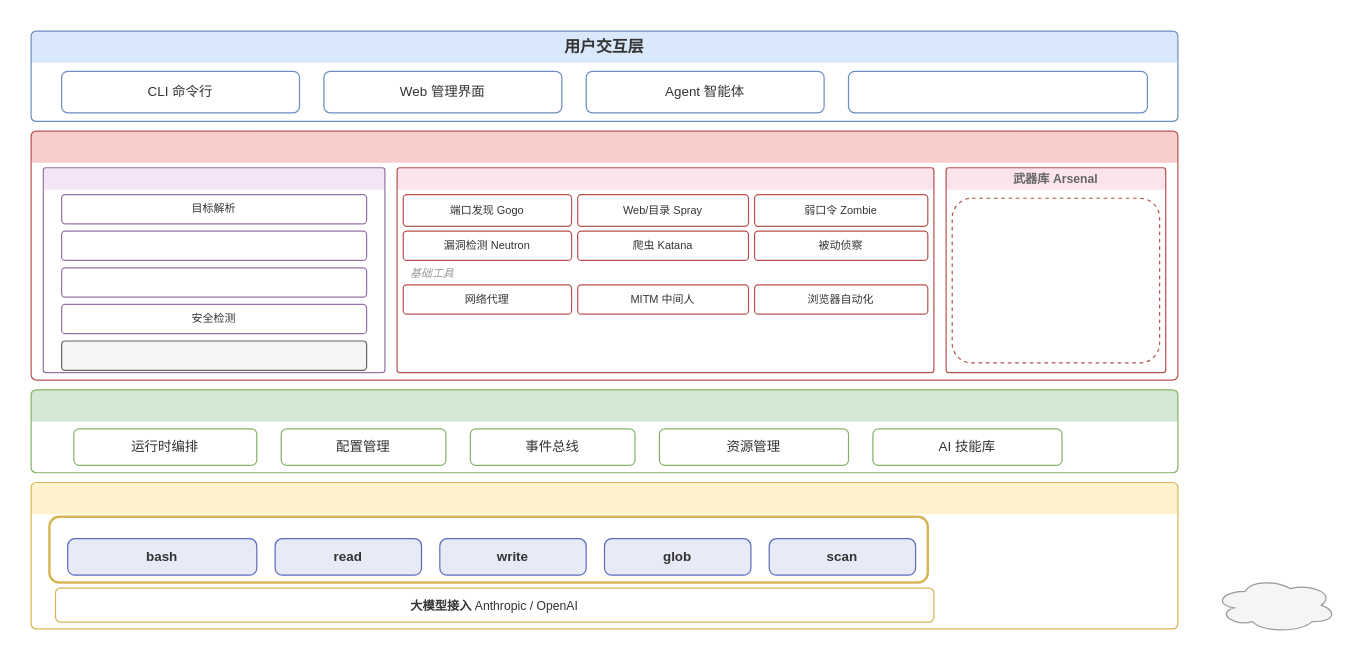
This 1358x654 diagram has some shape labels left out. The shapes that lost their labels are listed below. From the top down, each one's box as (x1, y1, x2, y2) in pixels, then its label:
(847, 70, 1147, 113): IOA 多智能体协作
(60, 230, 367, 260): 服务发现
(30, 130, 1178, 380): 安全能力层（可扩展）
(42, 167, 385, 373): DAG 编排管线
(60, 267, 367, 297): Web 探测
(396, 167, 934, 373): 原子能力
(951, 197, 1160, 363): 可扩展工具集 外部安全工具 按需集成
(60, 340, 367, 370): 结果汇总
(30, 389, 1178, 473): 核心框架层
(48, 515, 928, 583): ReAct 循环
(30, 481, 1178, 629): AI 智能体引擎
(1213, 576, 1337, 633): LLM API
